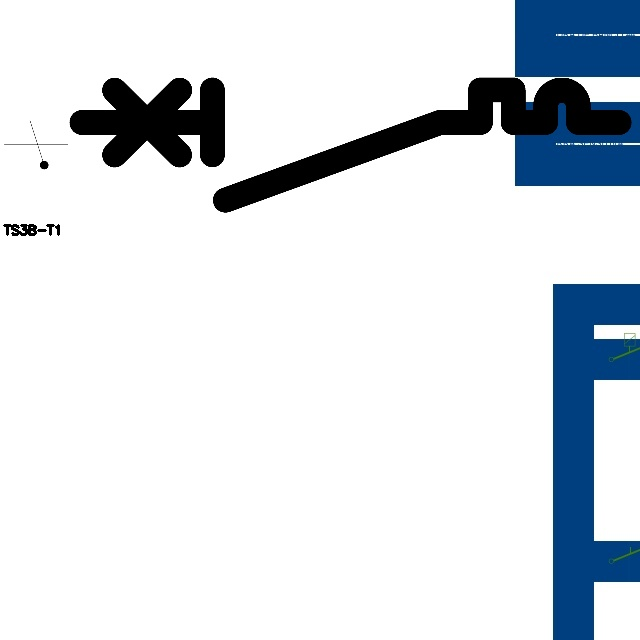interruptor_termomagnetico: (67, 76, 632, 214)
